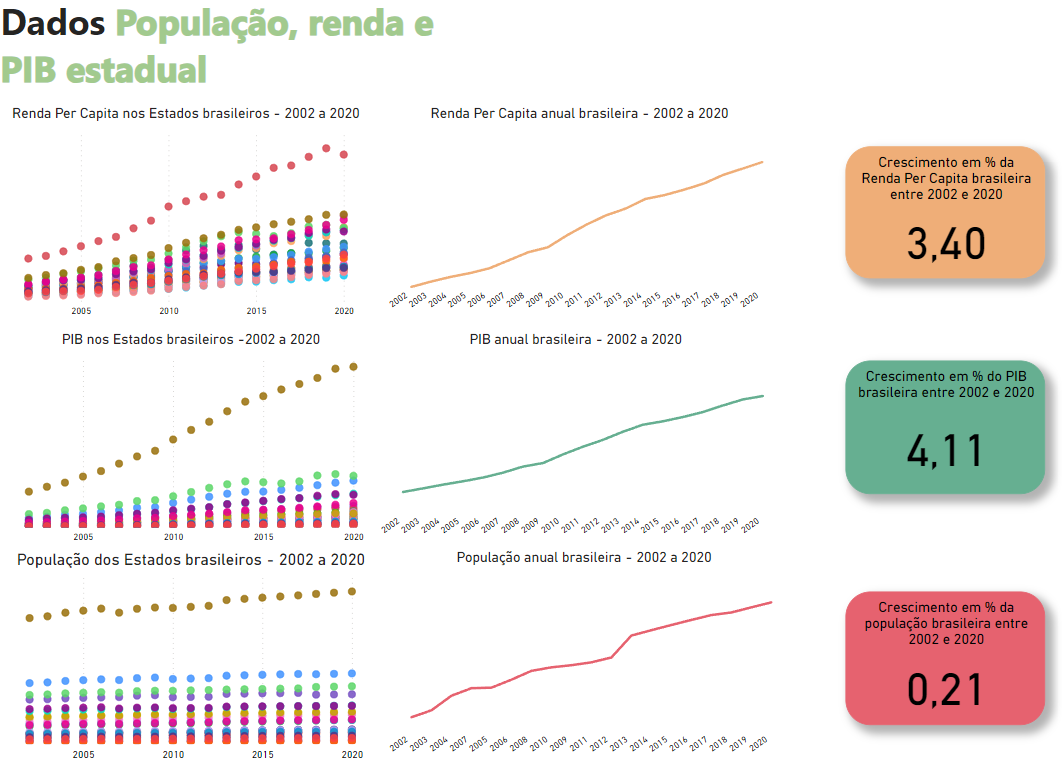

What the dashboard file says about the page in this screenshot:
{"tool":"powerbi","page":{"name":"Geral","canvas":[1280,950],"ordinal":0},"visuals":[{"type":"textbox","box":[0,0,466.4,163.8],"z":0},{"type":"scatterChart","title":"PIB Per Capita nos Estados brasileiros - 2002 a 2022","fields":{"Category":["summ_populacao.pib"],"X":["Min(summ_populacao.ano)"],"Y":["Sum(summ_populacao.pib_per_Capita)"],"Series":["summ_populacao.sigla_uf"]},"box":[0,134.4,454.4,261.1],"z":1000},{"type":"scatterChart","title":"PIB nos Estados brasileiros - 2002 a 2022","fields":{"Category":["summ_populacao.pib"],"X":["Min(summ_populacao.ano)"],"Series":["summ_populacao.sigla_uf"],"Y":["Sum(summ_populacao.pib)"]},"box":[0,404.4,466.7,261.1],"z":3000},{"type":"lineChart","title":"PIB anual brasileiro - 2002  a 2022","fields":{"Y":["Sum(PIB_mun_2002_2020.pib)"],"Category":["PIB_mun_2002_2020.ano"]},"box":[454.4,404.4,477.8,261.1],"z":3001},{"type":"card","title":"Crescimento em % do PIB brasileiro entre 2002 e 2022","fields":{"Values":["PIB_mun_2002_2020.pib % diferença de 2002"]},"box":[1015.6,440,228.9,160],"z":3003},{"type":"lineChart","title":"PIB Per Capita anual brasileiro - 2002  a 2022","fields":{"Y":["Sum(summ_populacao.pib_per_Capita)"],"Category":["summ_populacao.ano"]},"box":[465.6,134.4,466.7,261.1],"z":3004},{"type":"card","title":"Crescimento em % do PIB Per Capita brasileiro entre 2002 e 2022","fields":{"Values":["PIB_mun_2002_2020.pib per capita % diferença de 2002"]},"box":[1015.6,184.4,228.9,160],"z":3005},{"type":"scatterChart","title":"População dos Estados brasileiros - 2002 a 2022","fields":{"Category":["summ_populacao.Populacao"],"X":["summ_populacao.ano"],"Y":["Sum(summ_populacao.Populacao)"],"Series":["summ_populacao.sigla_uf"]},"box":[0,665.6,466.7,261.1],"z":3006},{"type":"lineChart","title":"PIB anual brasileiro - 2002  a 2022","fields":{"Y":["Sum(Pop_mun_2002_2020.populacao)"],"Category":["Pop_mun_2002_2020.ano"]},"box":[465.6,665.6,477.8,261.1],"z":3007},{"type":"card","title":"Crescimento em % do PIB brasileiro entre 2002 e 2022","fields":{"Values":["PIB_mun_2002_2020.crescimento populacional"]},"box":[1015.6,716.7,228.9,160],"z":3008}]}

Visuals, with their boxes in screenshot pixels (x1, y1, x2, y2), scaled from the page's 1280x950 canvas onto the 1062x772 screenshot:
textbox: (0, 0, 387, 133)
"PIB Per Capita nos Estados brasileiros - 2002 a 2022" scatterChart: (0, 109, 377, 321)
"PIB nos Estados brasileiros - 2002 a 2022" scatterChart: (0, 329, 387, 541)
"PIB anual brasileiro - 2002  a 2022" lineChart: (377, 329, 773, 541)
"Crescimento em % do PIB brasileiro entre 2002 e 2022" card: (843, 358, 1033, 488)
"PIB Per Capita anual brasileiro - 2002  a 2022" lineChart: (386, 109, 774, 321)
"Crescimento em % do PIB Per Capita brasileiro entre 2002 e 2022" card: (843, 150, 1033, 280)
"População dos Estados brasileiros - 2002 a 2022" scatterChart: (0, 541, 387, 753)
"PIB anual brasileiro - 2002  a 2022" lineChart: (386, 541, 783, 753)
"Crescimento em % do PIB brasileiro entre 2002 e 2022" card: (843, 582, 1033, 712)
